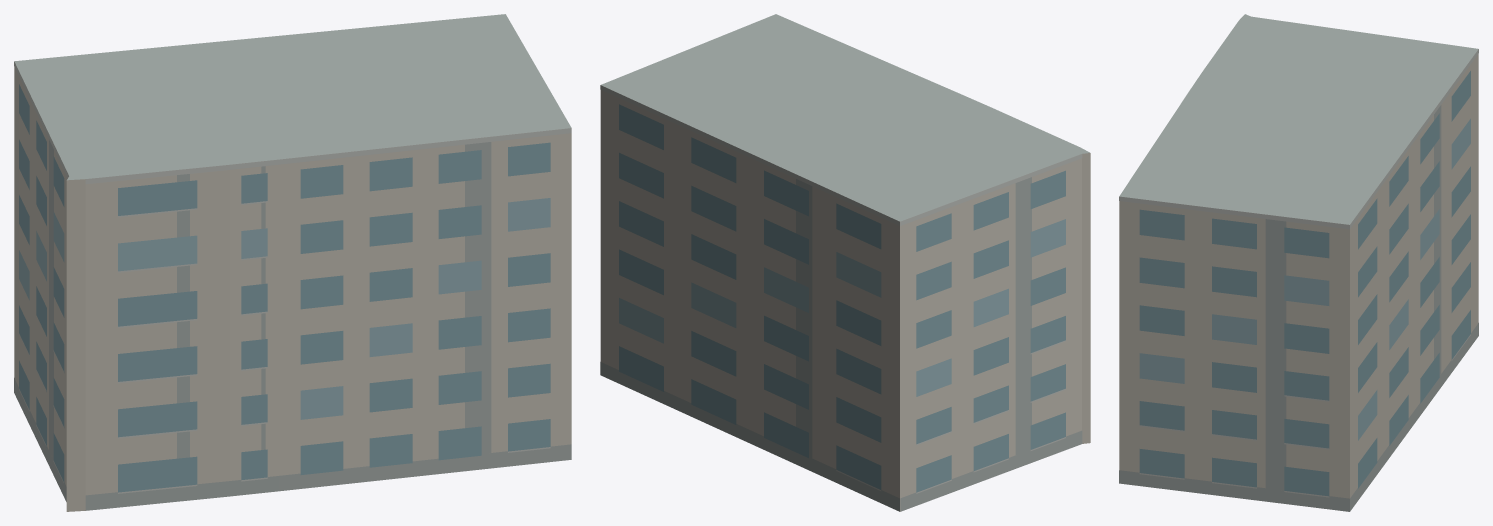
File: survey-upis-32830337.glb
3 views of the same model, side by side, from view 1: azimuth 30°, elevation 25°; view 2: azimuth 150°, elevation 25°; view 3: azimuth 270°, elevation 25° (orthographic). The views are drawn at different scales.
Visible parts, largest first — view 1: survey-upis-32830337.tmp; view 2: survey-upis-32830337.tmp; view 3: survey-upis-32830337.tmp.
Part boxes in pixels (bbox=[...]): survey-upis-32830337.tmp: bbox=[14, 14, 571, 511]; survey-upis-32830337.tmp: bbox=[600, 14, 1090, 511]; survey-upis-32830337.tmp: bbox=[1119, 14, 1478, 511].
Size of the model in its own units: 24.75 by 15.7 by 17.84.
